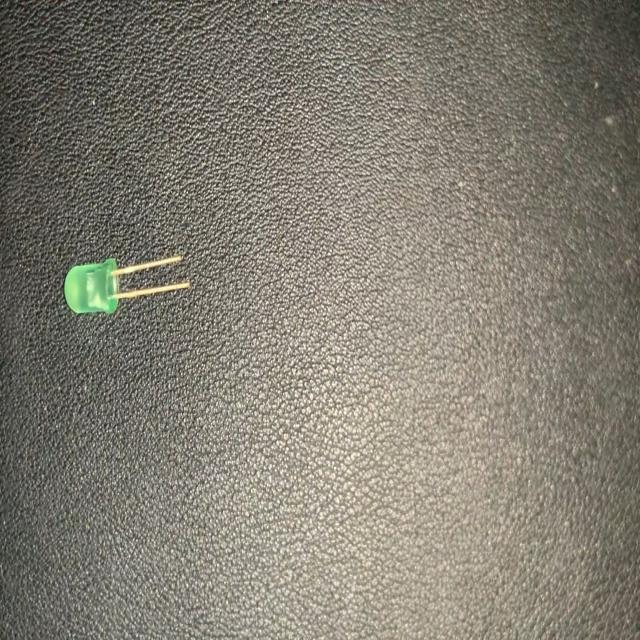LED: (64, 249, 189, 315)
